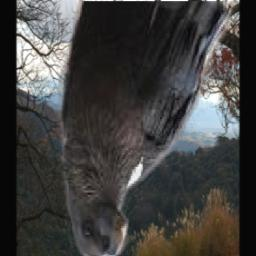Crow: (59, 2, 238, 256)
